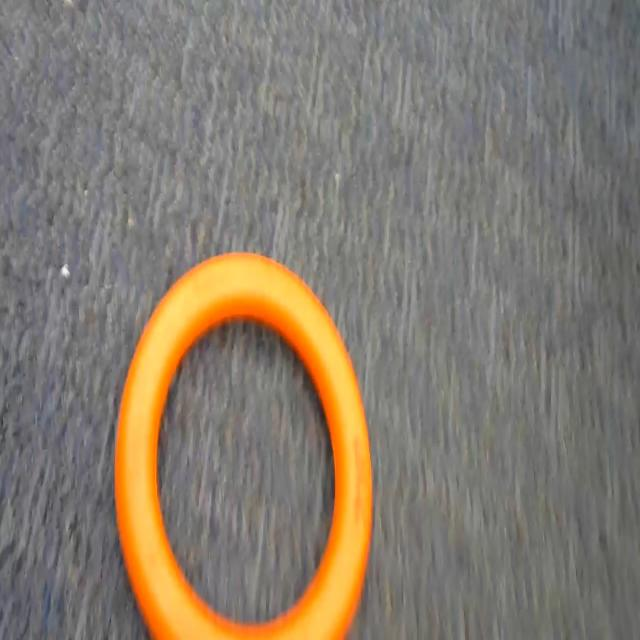note: (95, 230, 386, 640)
